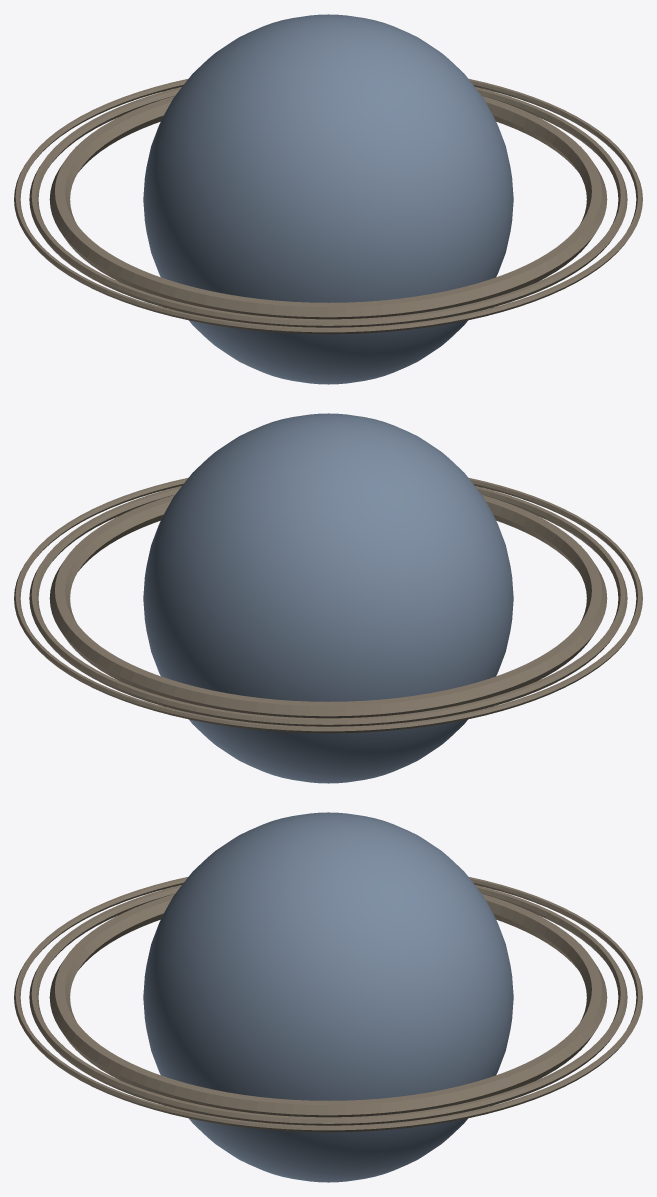
The model's file is ambient.glb.
3 views of the same model, one above another, from view 1: azimuth 30°, elevation 25°; view 2: azimuth 150°, elevation 25°; view 3: azimuth 270°, elevation 25° (orthographic).
Visible parts, largest first — view 1: AmbientPlanet; view 2: AmbientPlanet; view 3: AmbientPlanet.
Boxes of the visible parts, x1,y1,x2,y2 form: AmbientPlanet: [14, 14, 642, 384]; AmbientPlanet: [14, 413, 642, 783]; AmbientPlanet: [14, 812, 642, 1182].
Bounding box in the file's own units: 3.4 × 2 × 3.4.
